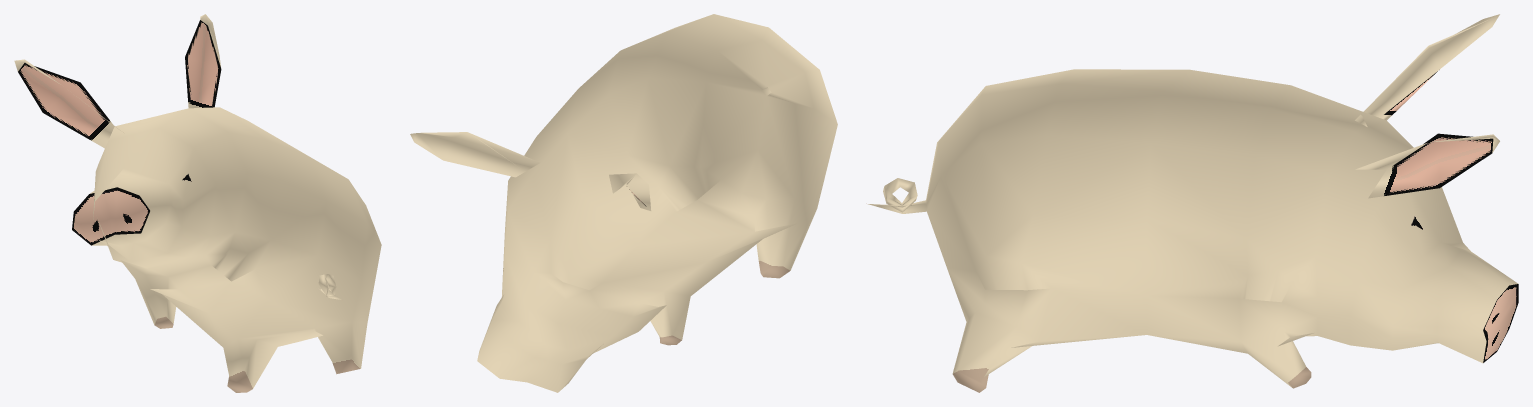
File: ps2_save-icons_miraishounenconan.glb
The picture shows the model from 3 angles, left to right: view 1: azimuth 30°, elevation 25°; view 2: azimuth 150°, elevation 25°; view 3: azimuth 270°, elevation 25°; orthographic projection. The views are drawn at different scales.
Parts seen in each view (by area): view 1: mcicon.ico; view 2: mcicon.ico; view 3: mcicon.ico.
Boxes of the visible parts, left/top/right/bottom form: mcicon.ico: left=14, top=14, right=381, bottom=392; mcicon.ico: left=410, top=14, right=837, bottom=392; mcicon.ico: left=866, top=14, right=1518, bottom=392.
Size of the model in its own units: 2.19 by 2.32 by 4.72.
1 material, 1 textured.
